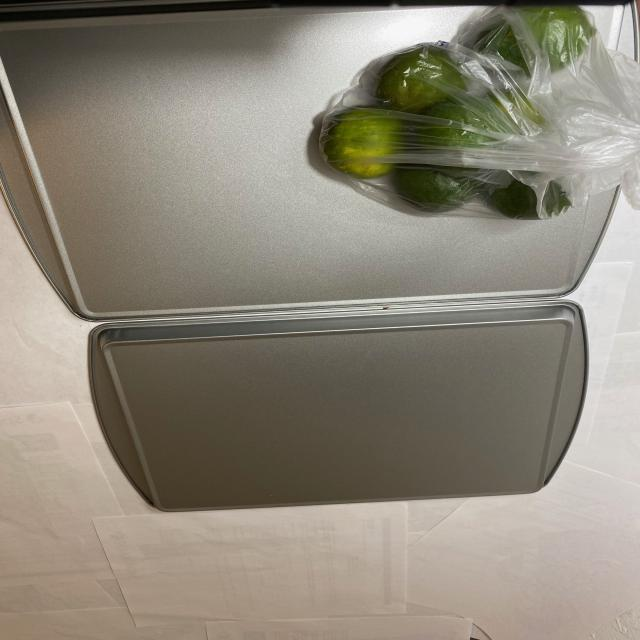lemon: (322, 4, 619, 216)
